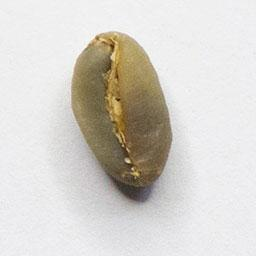peaberry: (67, 27, 177, 192)
